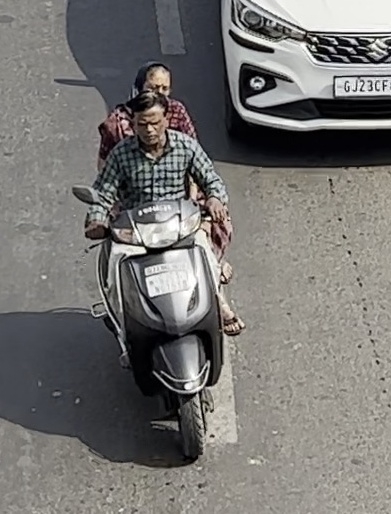BikeWithRider: (64, 55, 251, 465)
NoHelmet: (126, 55, 183, 113), (124, 89, 174, 151)
